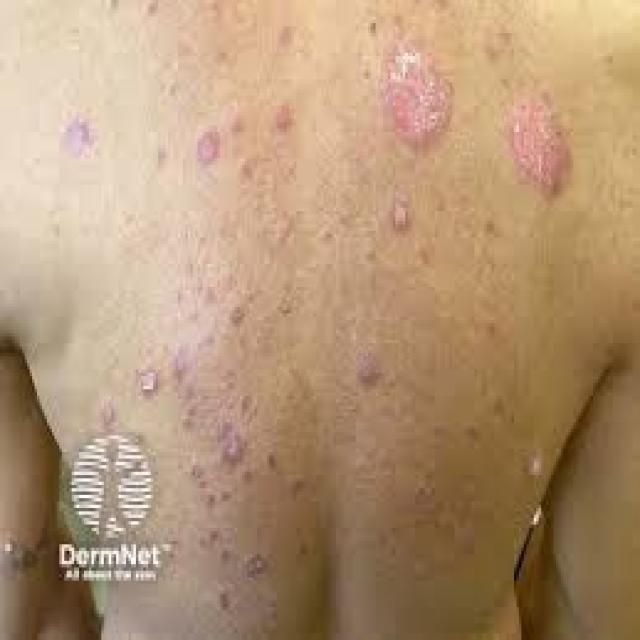Eczema: (58, 49, 570, 608)
